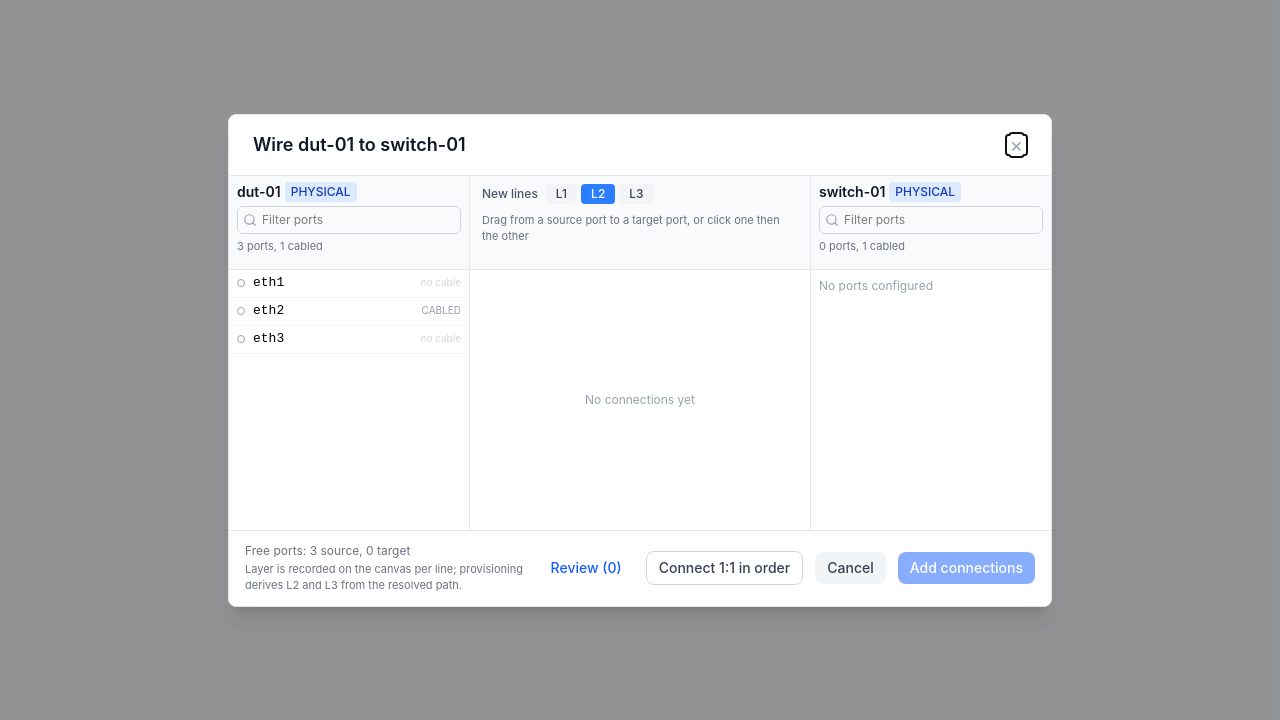
Test: WiringDialog › connect 1:1 in order shows the blunt error when nothing can pair
Click the button "Connect 1:1 in order" at (724,568), box [646, 551, 803, 585]
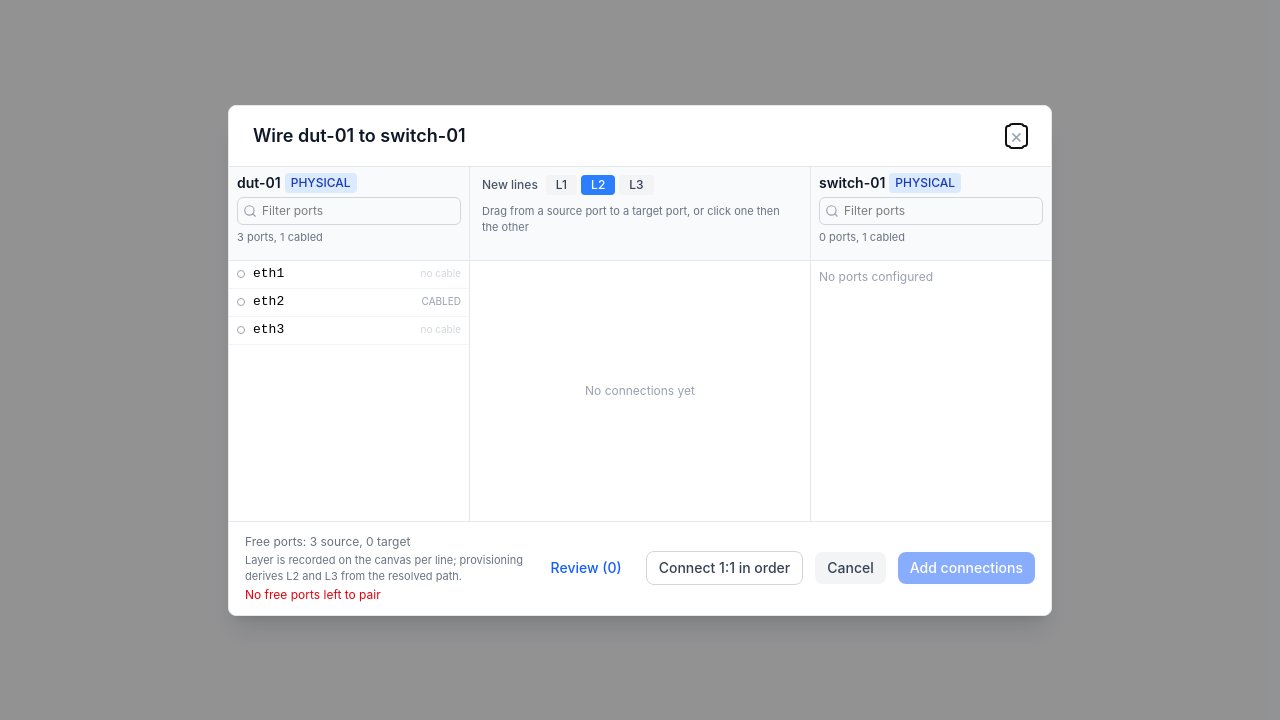
Expected: the text "No free ports left to pair" is shown, [245, 586, 381, 602]
